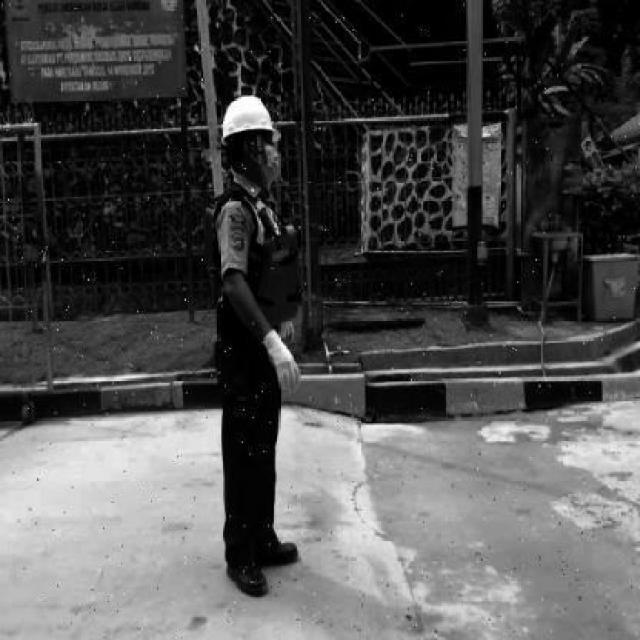Boots: (220, 542, 268, 602), (252, 520, 299, 565)
Gloves: (260, 328, 302, 395)
Helmet: (217, 91, 281, 144)
Mask: (255, 142, 283, 186)
Vest: (202, 199, 312, 321)
